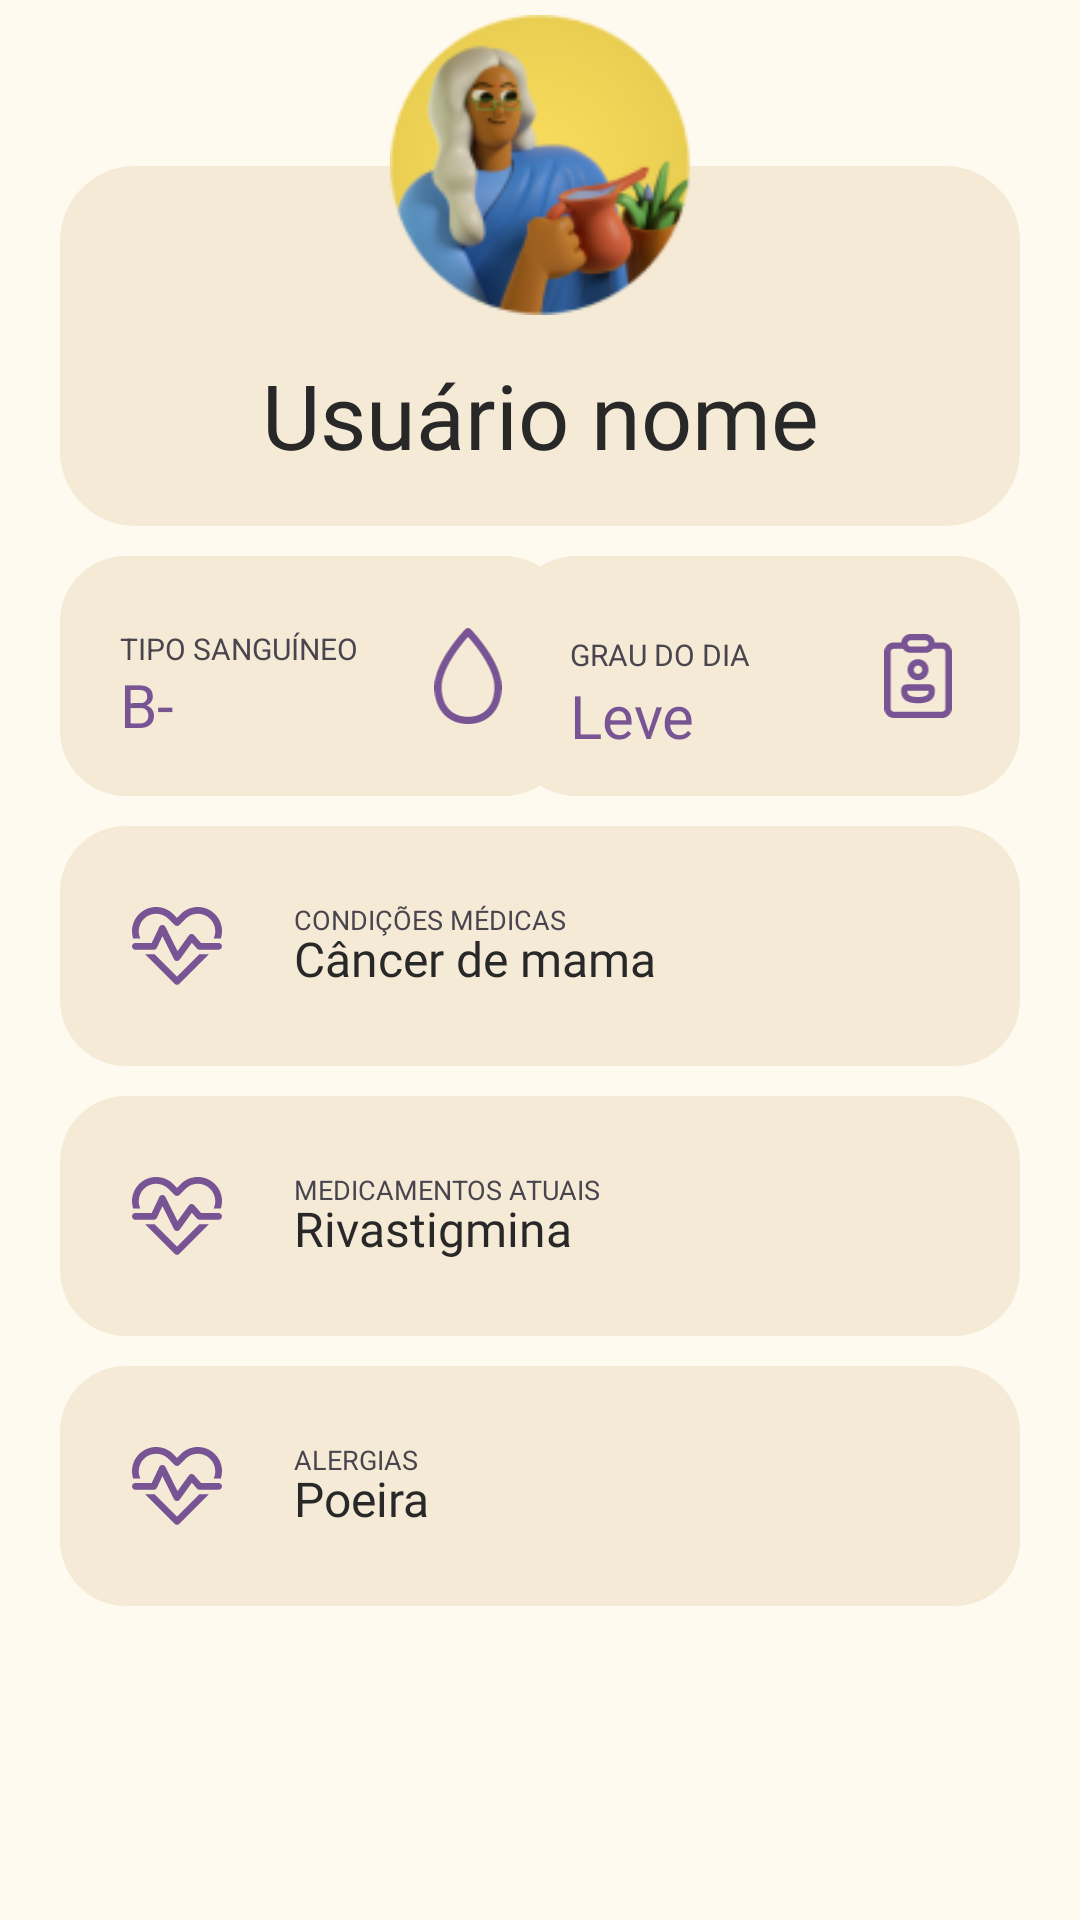

Icons on this 1080 × 1920 Android screen, each with its box as (x1, y1, x2, y2):
blood lined: (434, 628, 502, 724)
profile card: (884, 634, 952, 718)
vital: (132, 907, 222, 985), (132, 1177, 222, 1255), (132, 1447, 222, 1525)
